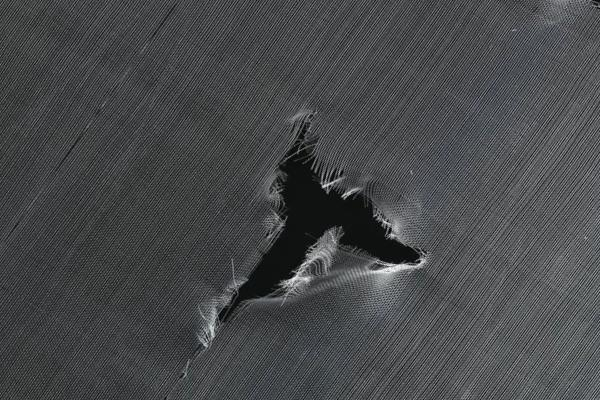hole: (206, 98, 437, 339)
